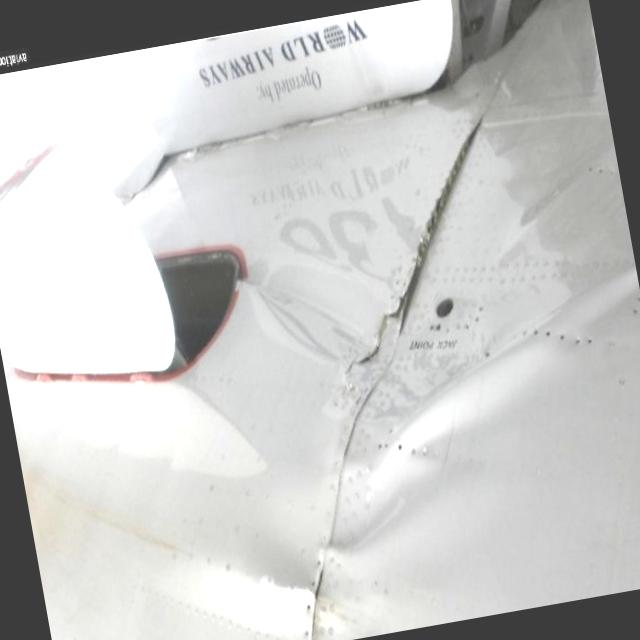crack: (329, 286, 418, 381)
dent: (353, 271, 640, 473), (312, 454, 434, 556)
